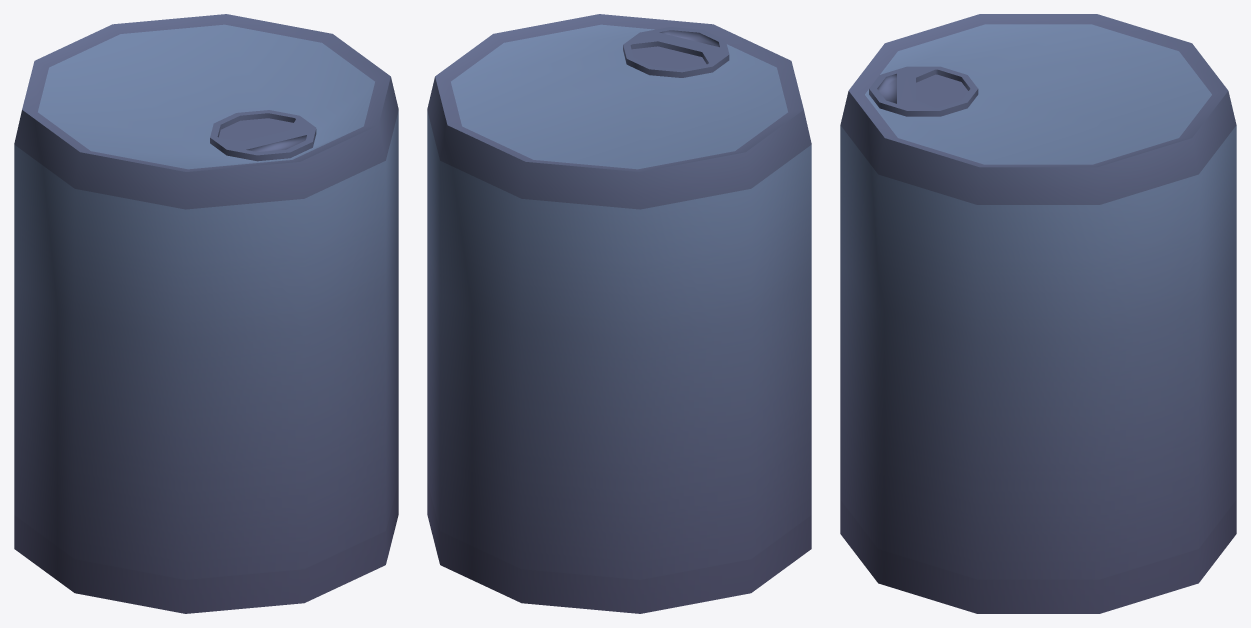
File: can_food_blue.fbx
3 views of the same model, side by side, from view 1: azimuth 30°, elevation 25°; view 2: azimuth 150°, elevation 25°; view 3: azimuth 270°, elevation 25° (orthographic).
Parts seen in each view (by area): view 1: can_food_blue; view 2: can_food_blue; view 3: can_food_blue.
Part boxes in pixels (x1=…): can_food_blue: x1=14, y1=14, x2=398, y2=613; can_food_blue: x1=427, y1=14, x2=811, y2=613; can_food_blue: x1=840, y1=14, x2=1236, y2=613.
Bounding box in the file's own units: 104 × 135 × 109.
